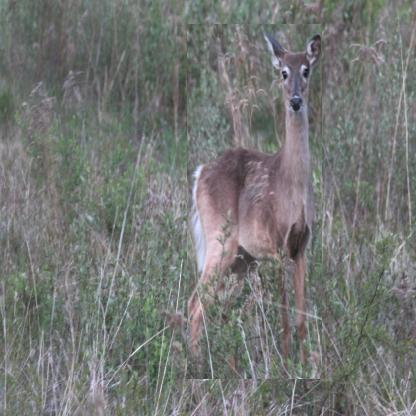Deer: (187, 24, 322, 379)
